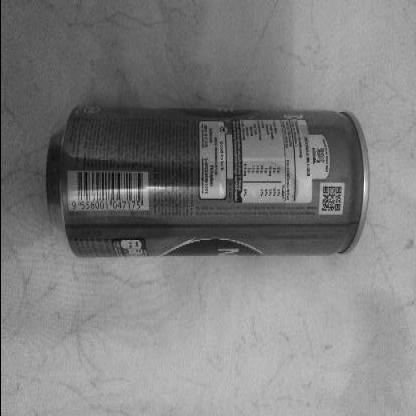alumunium_can: (41, 105, 366, 263)
